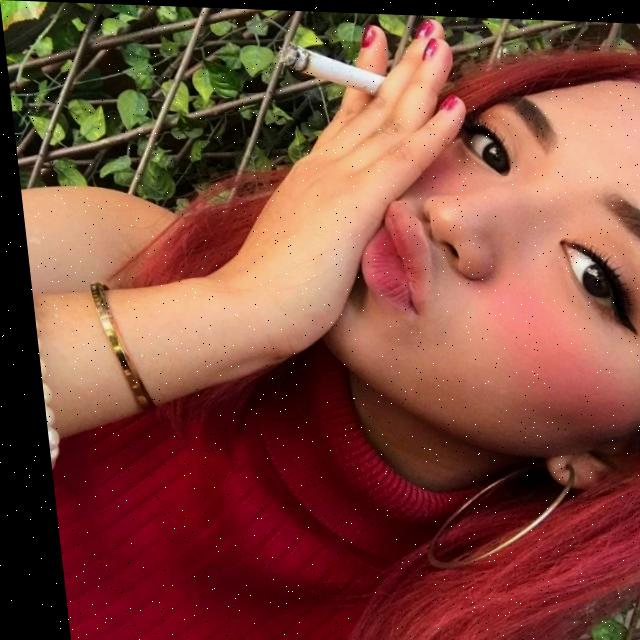cigarette: (277, 38, 387, 95)
